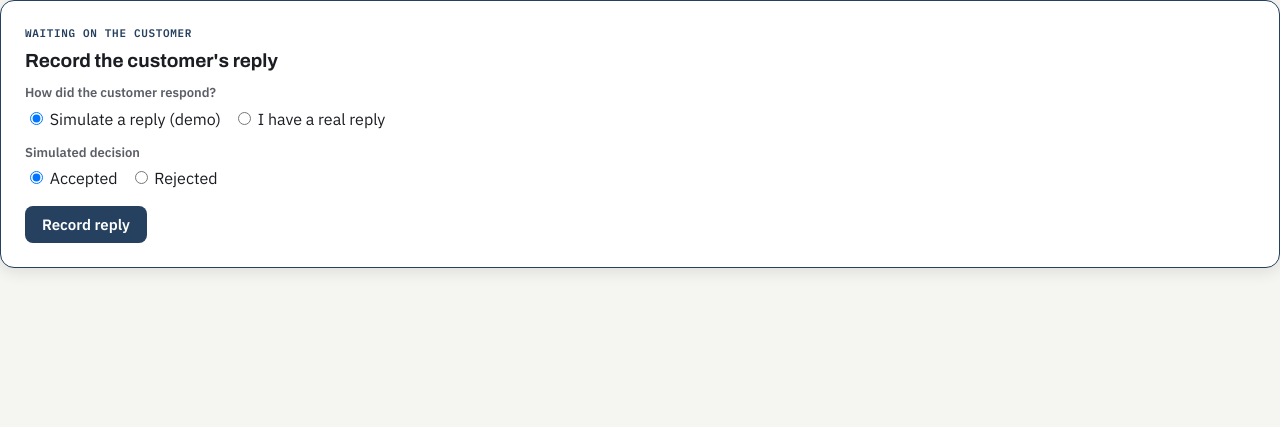
Test: ApprovalCard › customer response › switches to a real-reply textarea, disables submit until filled, then submits the pasted body
Later steps or results of the test are not shown.
Click the radio button labelled "I have a real reply".
click(244, 118)  # box x1=238 y1=112 x2=251 y2=125
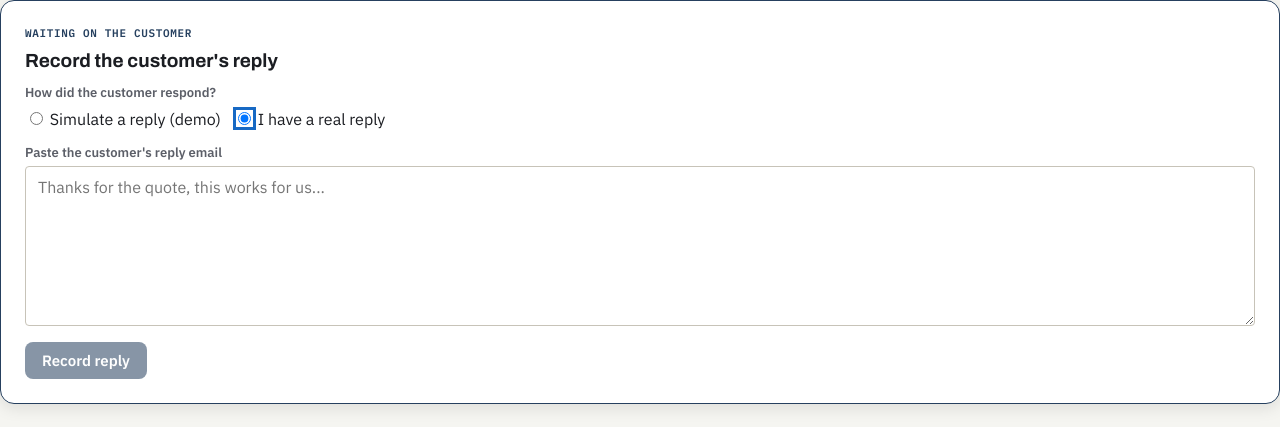
Check: the button "Record reply" is disabled, box x1=25 y1=342 x2=147 y2=379
Type "Thanks, we accept the quote." into the text box labelled "Paste the customer's reply email".
click(640, 246); type("Thanks, we accept the quote.")  # box x1=25 y1=166 x2=1255 y2=326
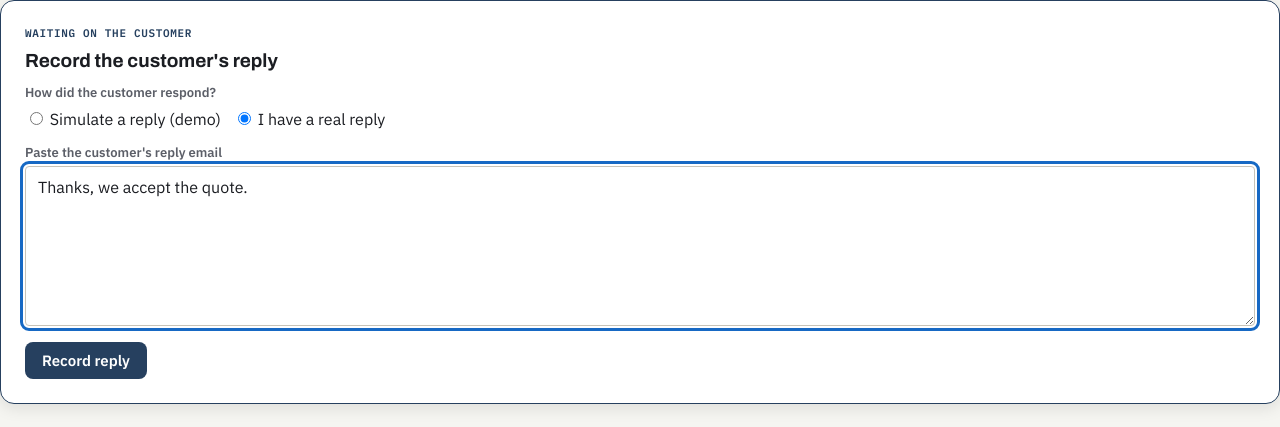
Check: the button "Record reply" is enabled, box x1=25 y1=342 x2=147 y2=379
